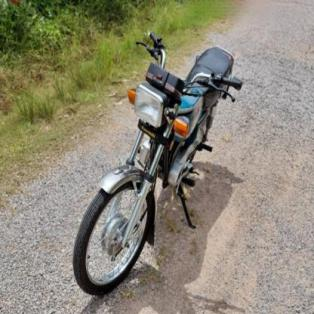Motocicleta: (70, 36, 240, 304)
